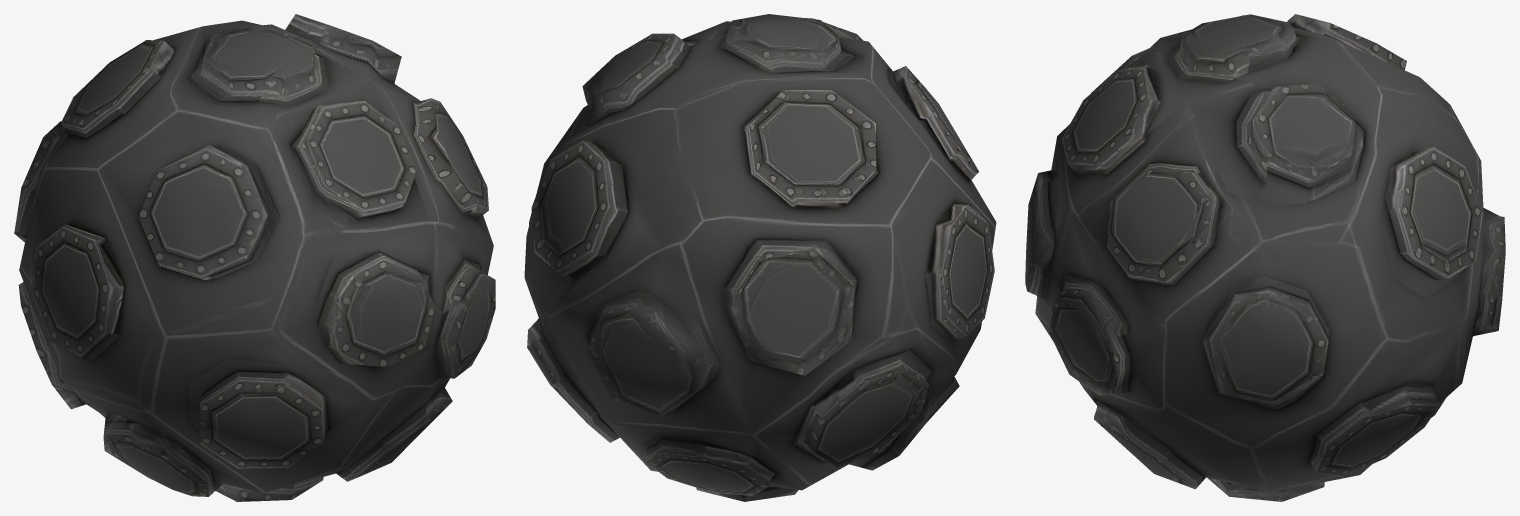
File: cold-iron-v2-hub-b-polyhedron.glb
The picture shows the model from 3 angles, left to right: view 1: azimuth 30°, elevation 25°; view 2: azimuth 150°, elevation 25°; view 3: azimuth 270°, elevation 25°; orthographic projection.
Visible parts, largest first — view 1: tripo_node_9642e57d-ce27-401a-aaa0-1e147562dcd8; view 2: tripo_node_9642e57d-ce27-401a-aaa0-1e147562dcd8; view 3: tripo_node_9642e57d-ce27-401a-aaa0-1e147562dcd8.
Boxes of the visible parts, left/top/right/bottom form: tripo_node_9642e57d-ce27-401a-aaa0-1e147562dcd8: left=14, top=14, right=495, bottom=501; tripo_node_9642e57d-ce27-401a-aaa0-1e147562dcd8: left=524, top=14, right=996, bottom=501; tripo_node_9642e57d-ce27-401a-aaa0-1e147562dcd8: left=1025, top=14, right=1505, bottom=501.
Bounding box in the file's own units: 0.9969 × 1.04 × 1.02.
Materials: 1 (1 with a texture image).
